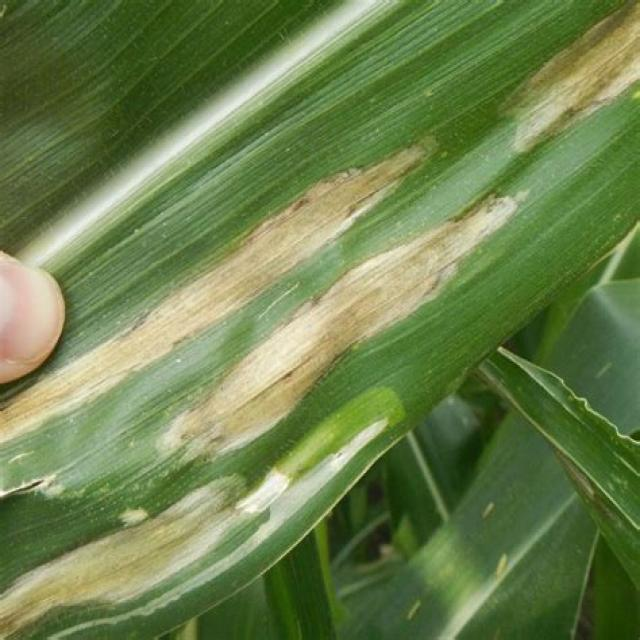blight: (67, 114, 477, 370), (0, 465, 254, 640)
